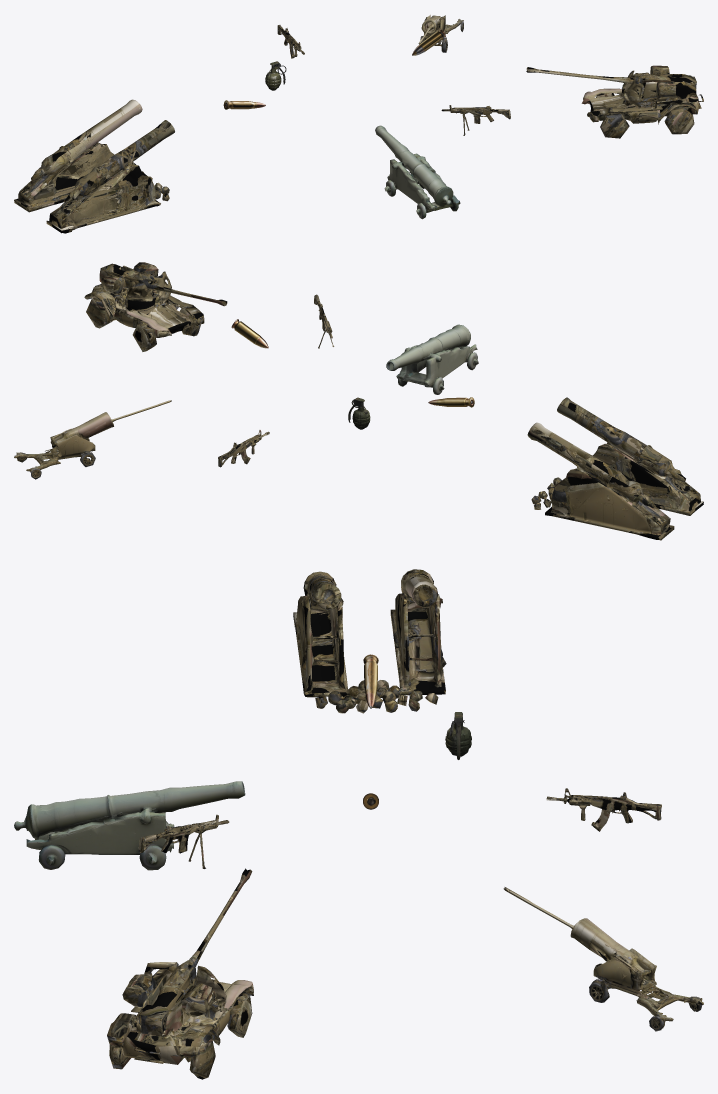
File: Weapons_Only.fbx
The picture shows the model from 3 angles, top to bottom: view 1: azimuth 30°, elevation 25°; view 2: azimuth 150°, elevation 25°; view 3: azimuth 270°, elevation 25°; orthographic projection. The views are drawn at different scales.
Parts seen in each view (by area): view 1: Mortars2:Mesh_0.002, Light_artillery2:Mesh_0.002, Mortars1:Mesh1_Mesh1.047, Light_artillery1:Mesh_0.002, MachineGun01:Mesh_0.002, grenade:Mesh1_Mesh1.052, Bullet01:Mesh1_Mesh1.007; view 2: Mortars2:Mesh_0.002, Light_artillery2:Mesh_0.002, Mortars1:Mesh1_Mesh1.047, Light_artillery1:Mesh_0.002, MachineGun02:Mesh_0.002, grenade:Mesh1_Mesh1.052; view 3: Mortars2:Mesh_0.002, Light_artillery2:Mesh_0.002, Mortars1:Mesh1_Mesh1.047, Light_artillery1:Mesh_0.002, MachineGun02:Mesh_0.002, MachineGun01:Mesh_0.002, grenade:Mesh1_Mesh1.052.
Boxes of the visible parts, x1,y1,x2,y2 form: Mortars2:Mesh_0.002: (14,99,174,233); Light_artillery2:Mesh_0.002: (526,65,703,138); Mortars1:Mesh1_Mesh1.047: (375,125,460,219); Light_artillery1:Mesh_0.002: (418,15,463,52); MachineGun01:Mesh_0.002: (441,105,510,135); grenade:Mesh1_Mesh1.052: (265,61,286,90); Bullet01:Mesh1_Mesh1.007: (412,29,445,55); Mortars2:Mesh_0.002: (527,397,703,540); Light_artillery2:Mesh_0.002: (84,262,227,351); Mortars1:Mesh1_Mesh1.047: (386,324,478,394); Light_artillery1:Mesh_0.002: (14,400,171,479); MachineGun02:Mesh_0.002: (218,430,269,467); grenade:Mesh1_Mesh1.052: (348,397,370,429); Mortars2:Mesh_0.002: (293,569,446,713); Light_artillery2:Mesh_0.002: (107,868,253,1079); Mortars1:Mesh1_Mesh1.047: (14,781,245,870); Light_artillery1:Mesh_0.002: (503,887,703,1031); MachineGun02:Mesh_0.002: (546,788,661,831); MachineGun01:Mesh_0.002: (138,814,229,868); grenade:Mesh1_Mesh1.052: (445,712,471,759).
Size of the model in its own units: 19.39 by 2.87 by 11.82.
